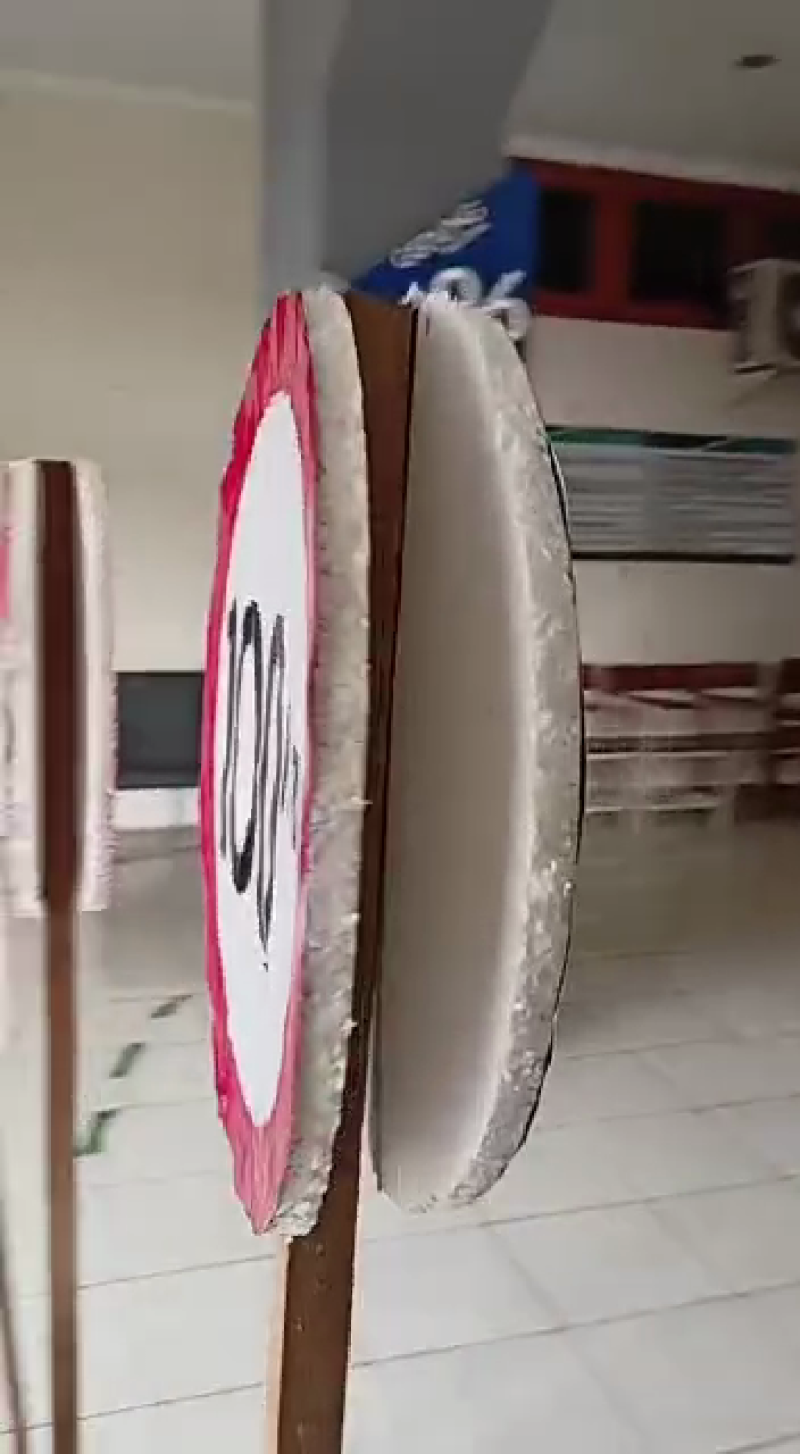batas maksimal 100kmperjam: (184, 277, 375, 1242)
